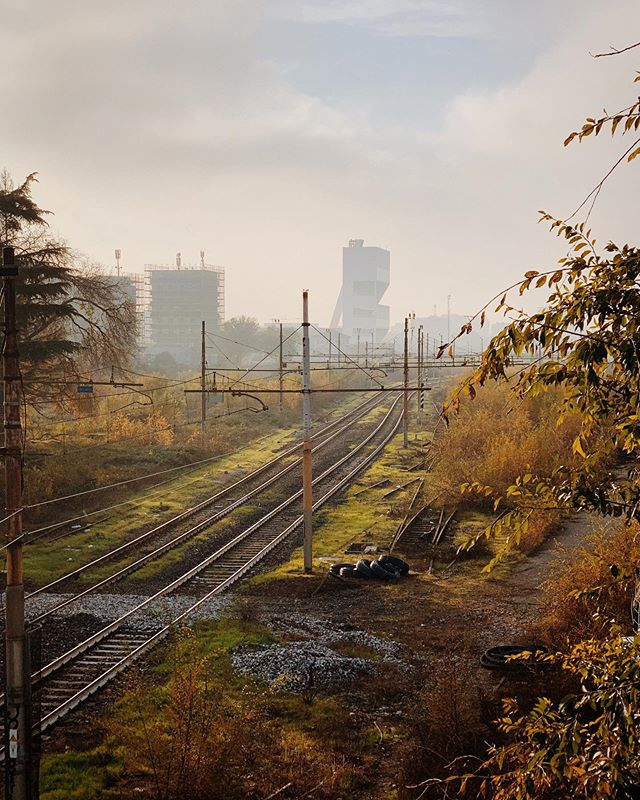building: (135, 245, 228, 357), (326, 233, 399, 350)
sky: (5, 8, 631, 277)
train track: (1, 383, 428, 800)
tree: (1, 202, 121, 436)
vegetation: (384, 183, 640, 800)
